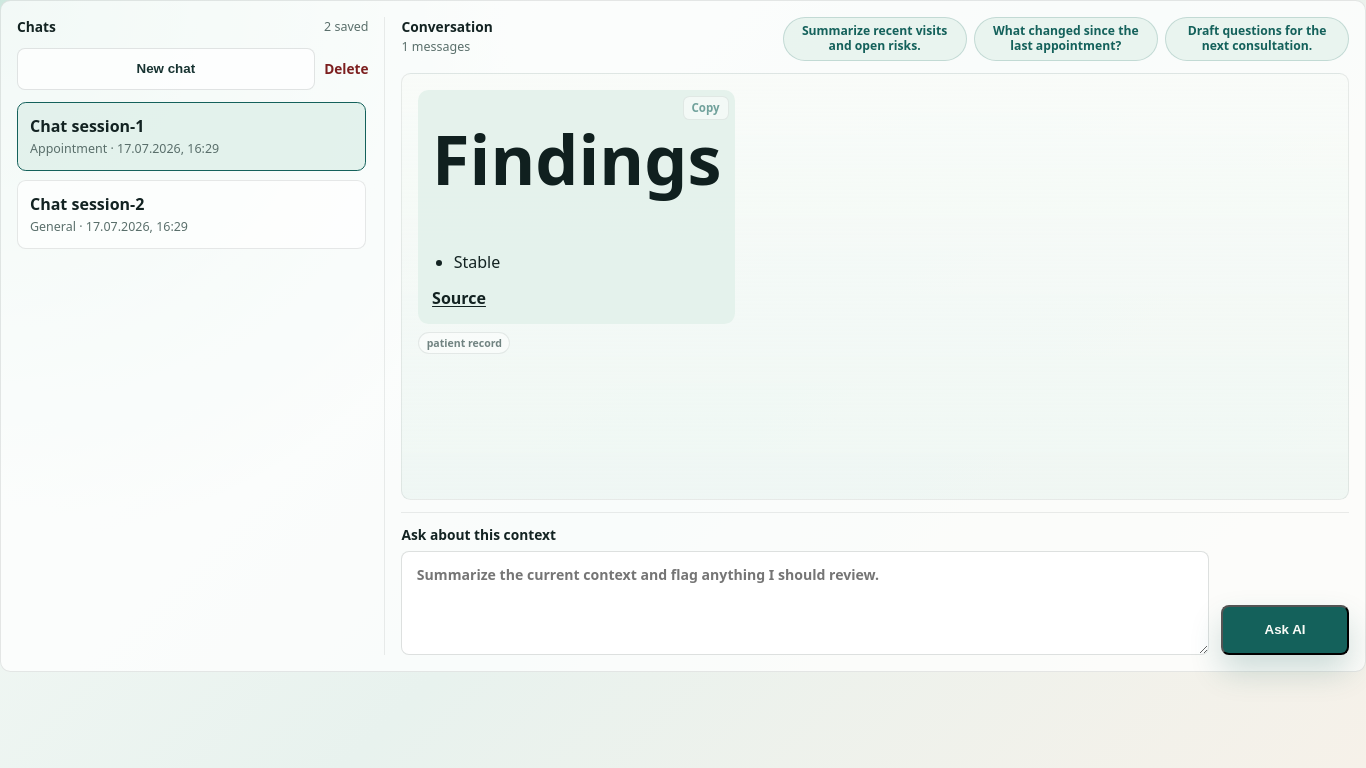
Test: doctor AI assistant › loads context sessions, renders Markdown, copies, switches, and deletes chats
Expected: the heading "Findings" is shown, left=432, top=125, right=721, bottom=193
Expected: the text "patient record" is shown, left=418, top=332, right=510, bottom=354
Click the button with aria-label "Copy message": (706, 108) left=682, top=96, right=729, bottom=120
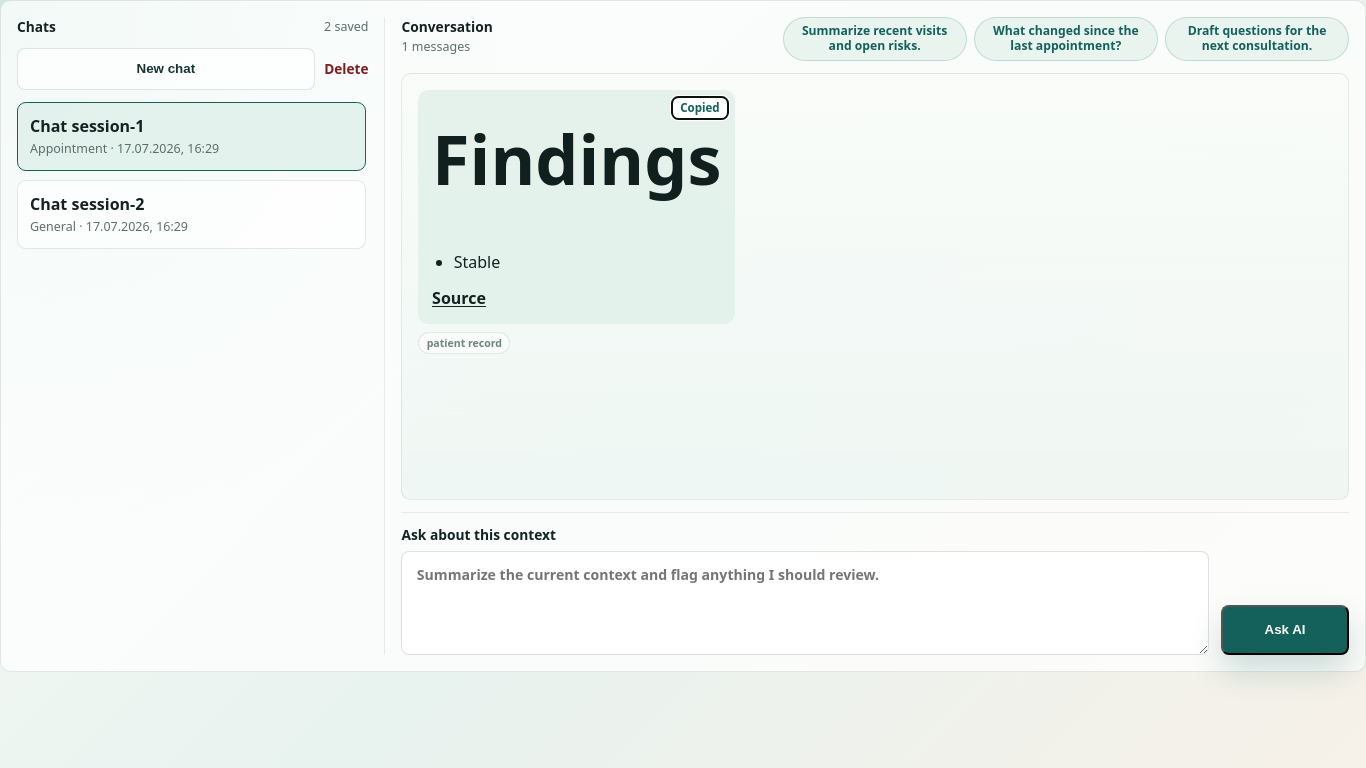
Result: the button with aria-label "Message copied" is shown at left=671, top=96, right=729, bottom=120
Click the button "Chat session-2 General · 17.07.2026, 16:29": (87, 204) left=17, top=180, right=366, bottom=249
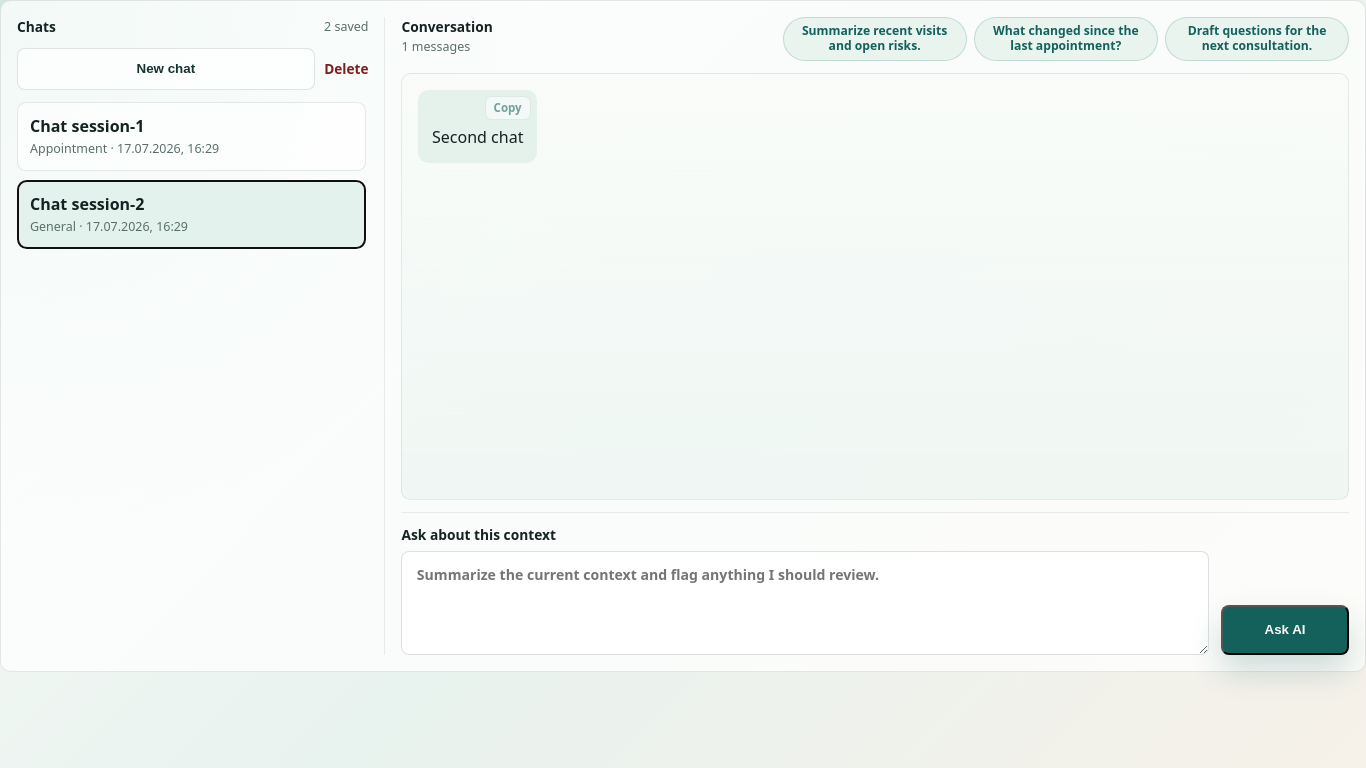
Result: the text "Second chat" is shown at left=432, top=125, right=524, bottom=151
Click the button "Delete": (346, 69) left=324, top=59, right=368, bottom=78
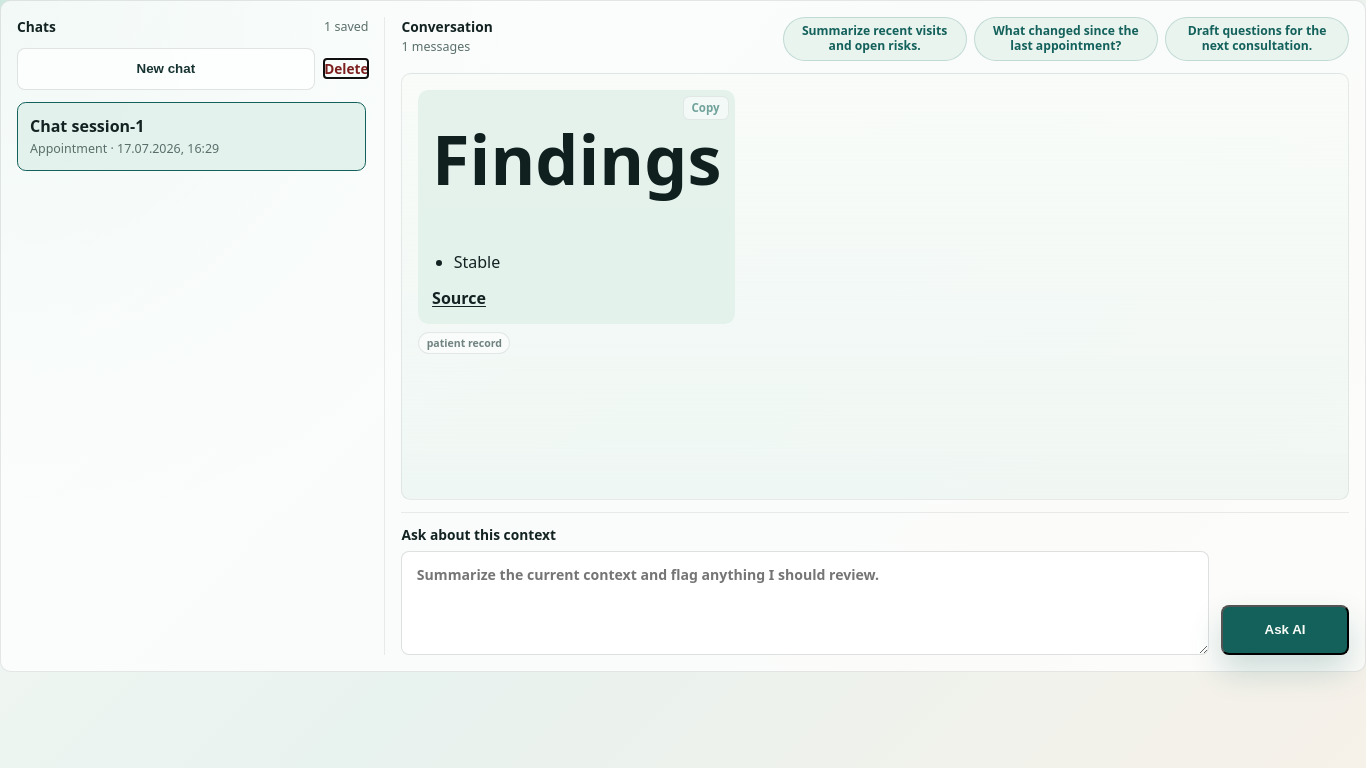
Result: the heading "Findings" is shown at left=432, top=125, right=721, bottom=193
